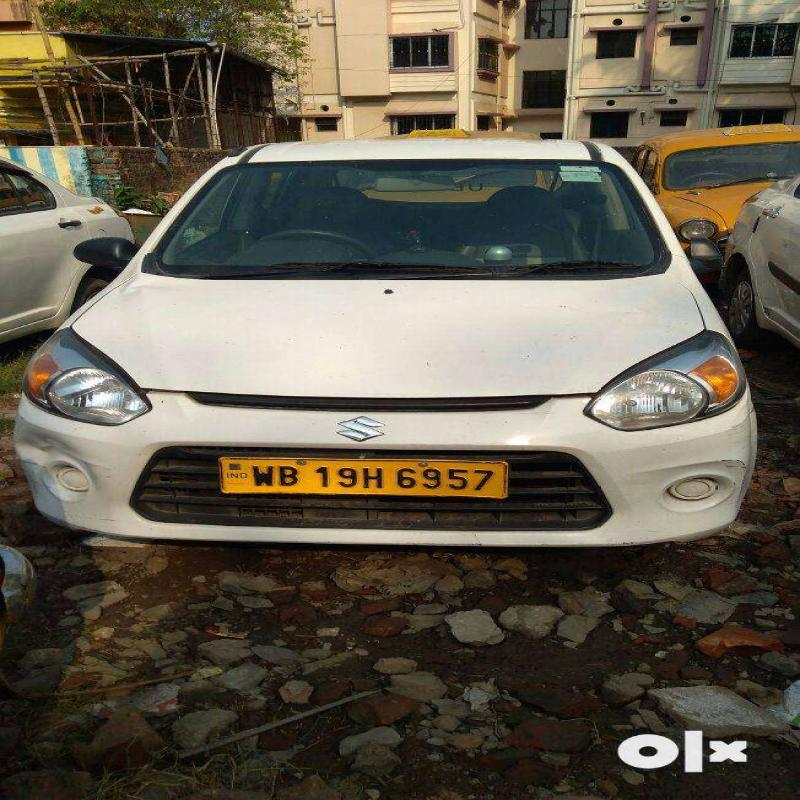car: (29, 104, 766, 632)
